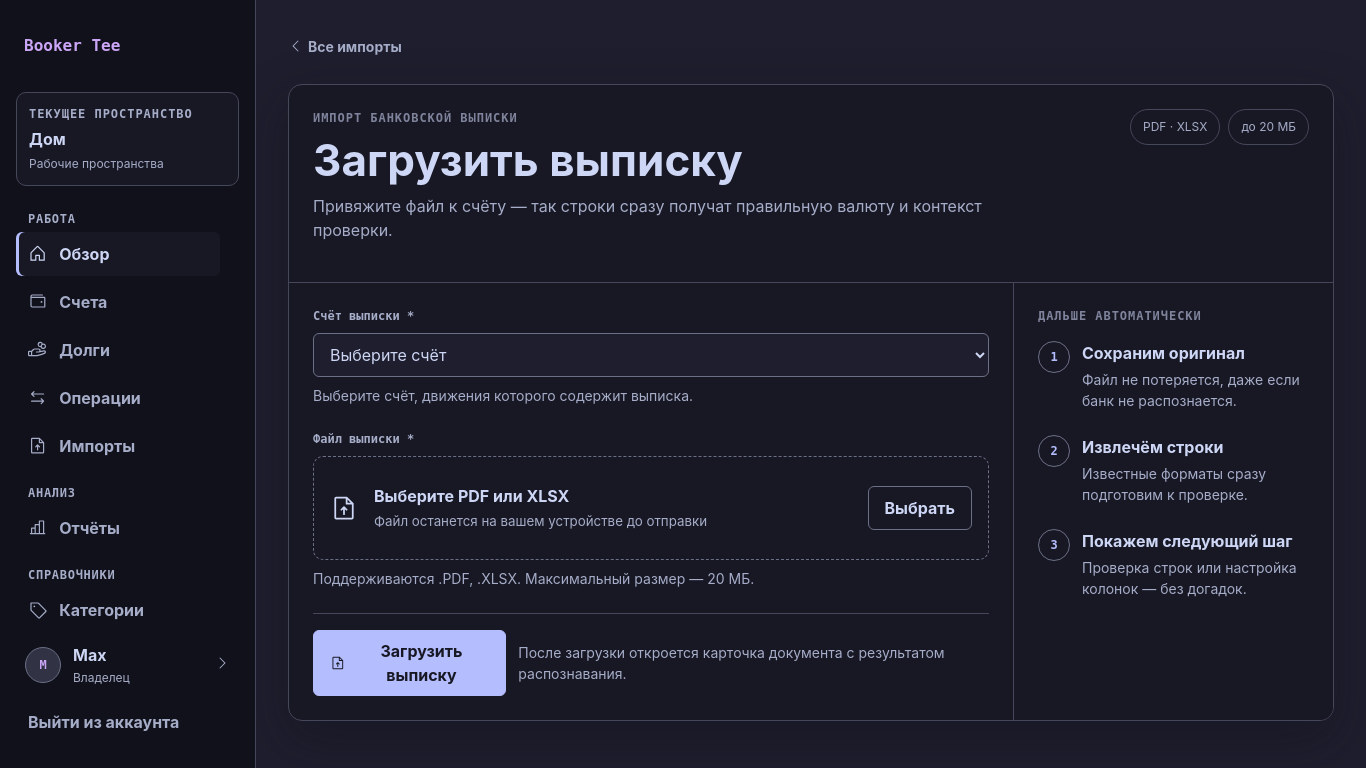
ImportUploadPage › requires an explicit account and statement file
The width and height of the screenshot is (1366, 768).
Click the button "Загрузить выписку": [410, 663] box [313,630,506,696]
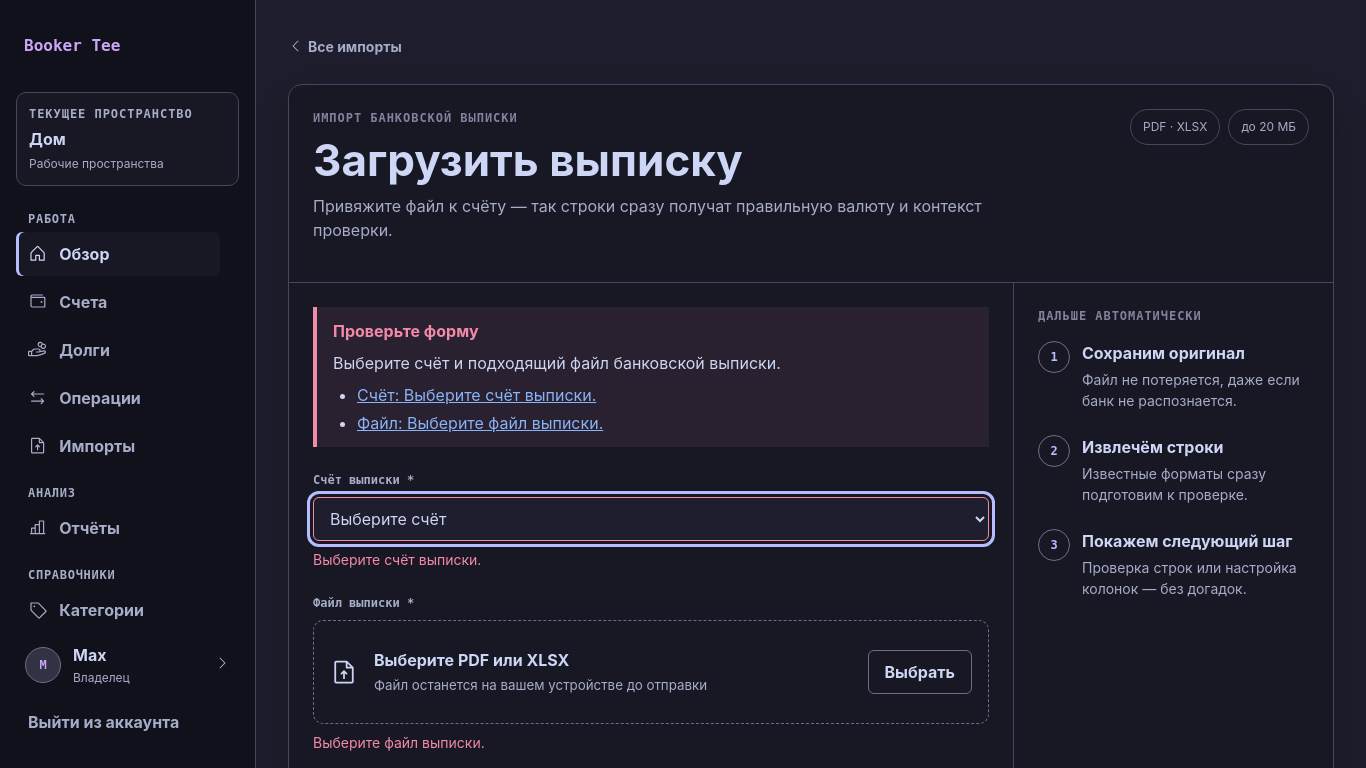
expect the text "Выберите счёт выписки." is shown: met, box [313,551,481,568]
expect the text "Выберите файл выписки." is shown: met, box [313,734,485,751]
